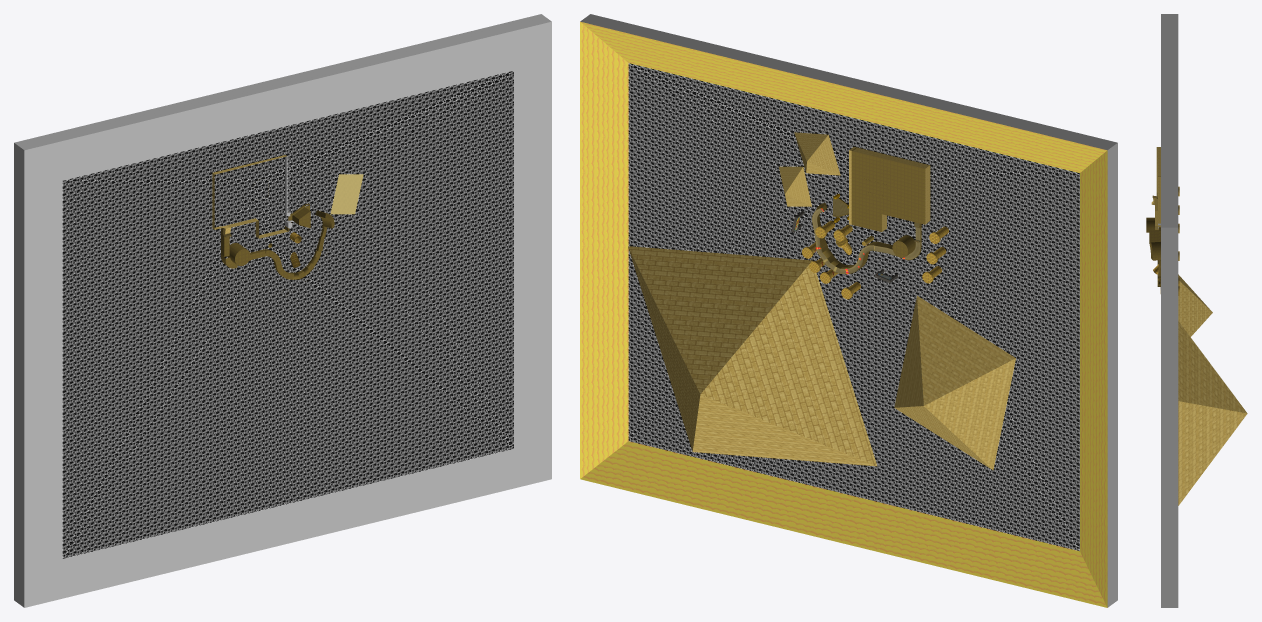
3 renders of one model, left to right at view 1: azimuth 30°, elevation 25°; view 2: azimuth 150°, elevation 25°; view 3: azimuth 270°, elevation 25°, orthographic. The views are drawn at different scales.
Parts seen in each view (by area): view 1: course_SKP__Material6.001, course_SKP__Default_Material.001, course_SKP__Material15.001, course_SKP__Material10.001, course_SKP__Material25.001; view 2: course_SKP__Material6.001, course_SKP__Material23.001, course_COM_Component_3_40215_Material25.001, course_COM_Component_3_40216_Material25.001, course_SKP__Default_Material.001, course_SKP__Material15.001, course_SKP__Material25.001, course_COM_Component_3_40214_Material25.001, course_SKP__Material14.001; view 3: course_SKP__Default_Material.001, course_COM_Component_3_40215_Material25.001, course_COM_Component_3_40216_Material25.001, course_SKP__Material15.001, course_SKP__Material25.001.
Part boxes in pixels (<box>): course_SKP__Material6.001: <box>62,70,513,558</box>; course_SKP__Default_Material.001: <box>14,14,551,607</box>; course_SKP__Material15.001: <box>221,155,334,279</box>; course_SKP__Material10.001: <box>253,174,363,214</box>; course_SKP__Material25.001: <box>212,155,288,238</box>; course_SKP__Material6.001: <box>628,63,1079,551</box>; course_SKP__Material23.001: <box>580,21,1107,607</box>; course_COM_Component_3_40215_Material25.001: <box>628,246,877,466</box>; course_COM_Component_3_40216_Material25.001: <box>894,295,1015,470</box>; course_SKP__Default_Material.001: <box>580,14,1117,607</box>; course_SKP__Material15.001: <box>815,147,925,269</box>; course_SKP__Material25.001: <box>779,146,930,268</box>; course_COM_Component_3_40214_Material25.001: <box>794,132,840,175</box>; course_SKP__Material14.001: <box>812,208,920,274</box>; course_SKP__Default_Material.001: <box>1158,14,1178,607</box>; course_COM_Component_3_40215_Material25.001: <box>1178,321,1247,505</box>; course_COM_Component_3_40216_Material25.001: <box>1178,274,1212,336</box>; course_SKP__Material15.001: <box>1146,176,1160,286</box>; course_SKP__Material25.001: <box>1151,147,1160,229</box>.
Bounding box in the file's own units: 453962 × 376388 × 90939.
Materials: 22 (21 with a texture image).
